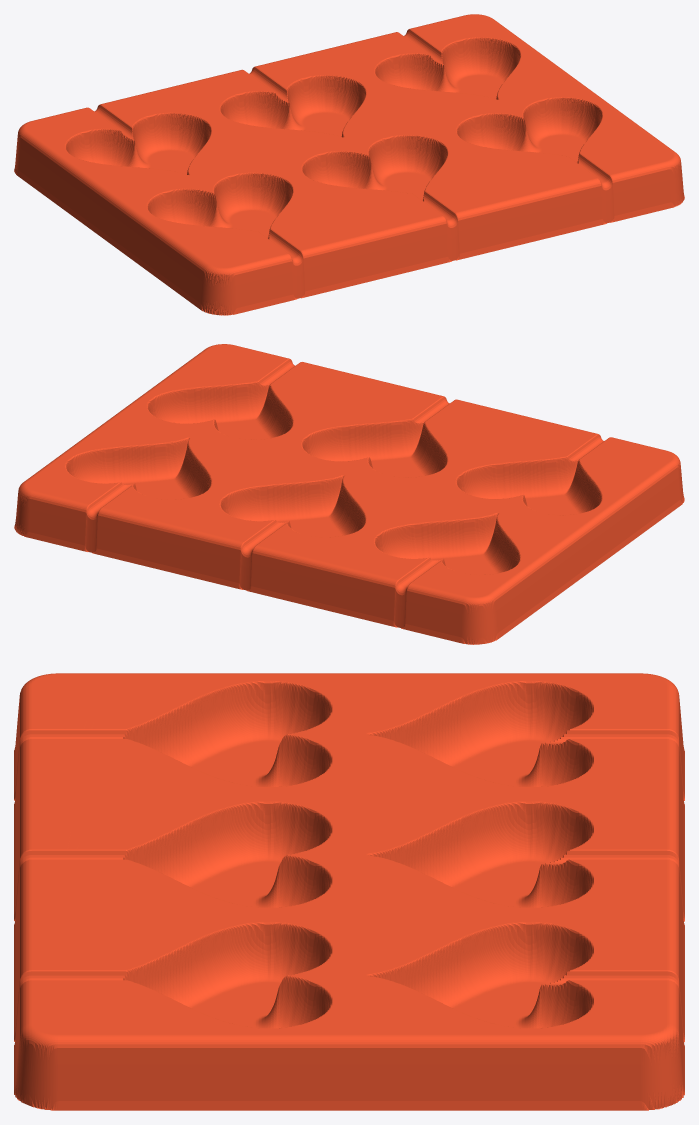
File: mold.glb
3 renders of one model, top to bottom at view 1: azimuth 30°, elevation 25°; view 2: azimuth 150°, elevation 25°; view 3: azimuth 270°, elevation 25°, orthographic. The views are drawn at different scales.
Parts seen in each view (by area): view 1: geometry_0; view 2: geometry_0; view 3: geometry_0.
Part boxes in pixels (x1,y1,x2,y2): geometry_0: (14,14,684,315); geometry_0: (14,344,684,644); geometry_0: (14,673,684,1110).
Bounding box in the file's own units: 0.1824 × 0.0155 × 0.1379.
